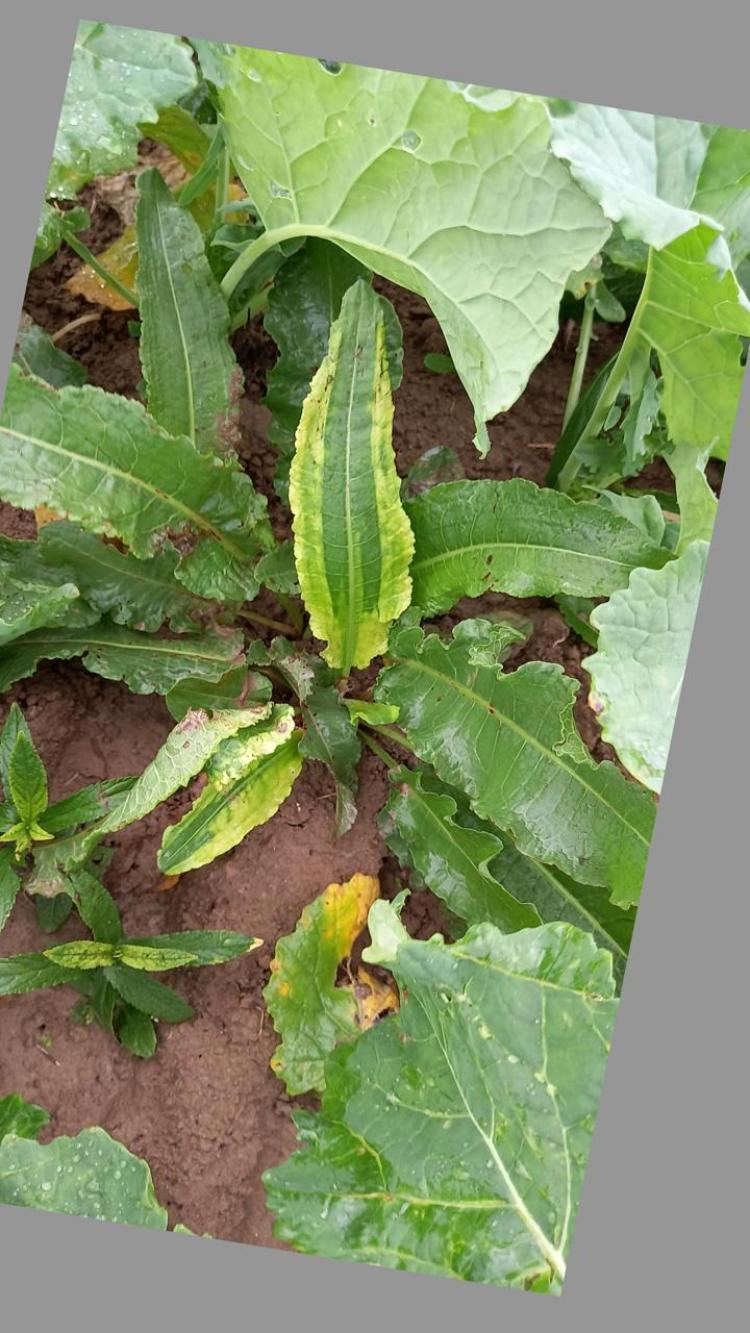zhavel: (10, 167, 652, 881)
